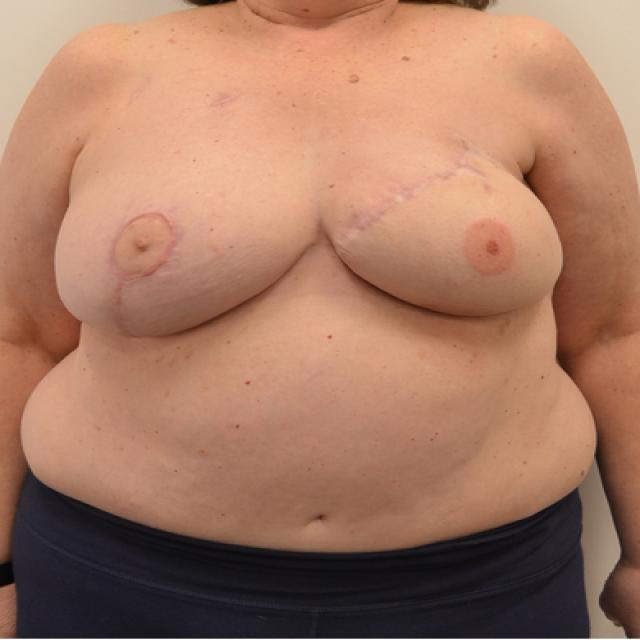Seno herido: (46, 144, 312, 348), (321, 144, 572, 342)
